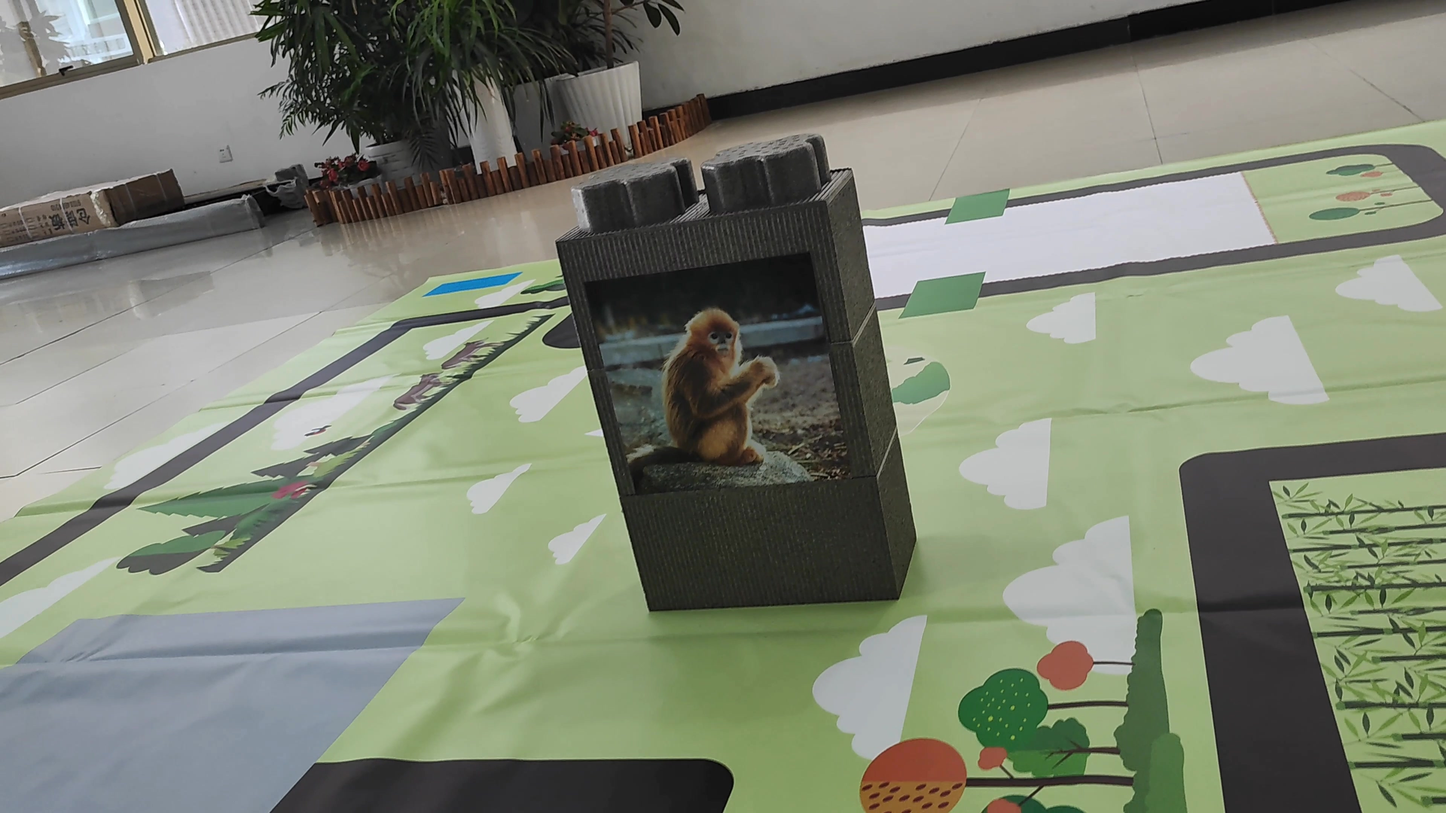monkey: (613, 289, 789, 495)
